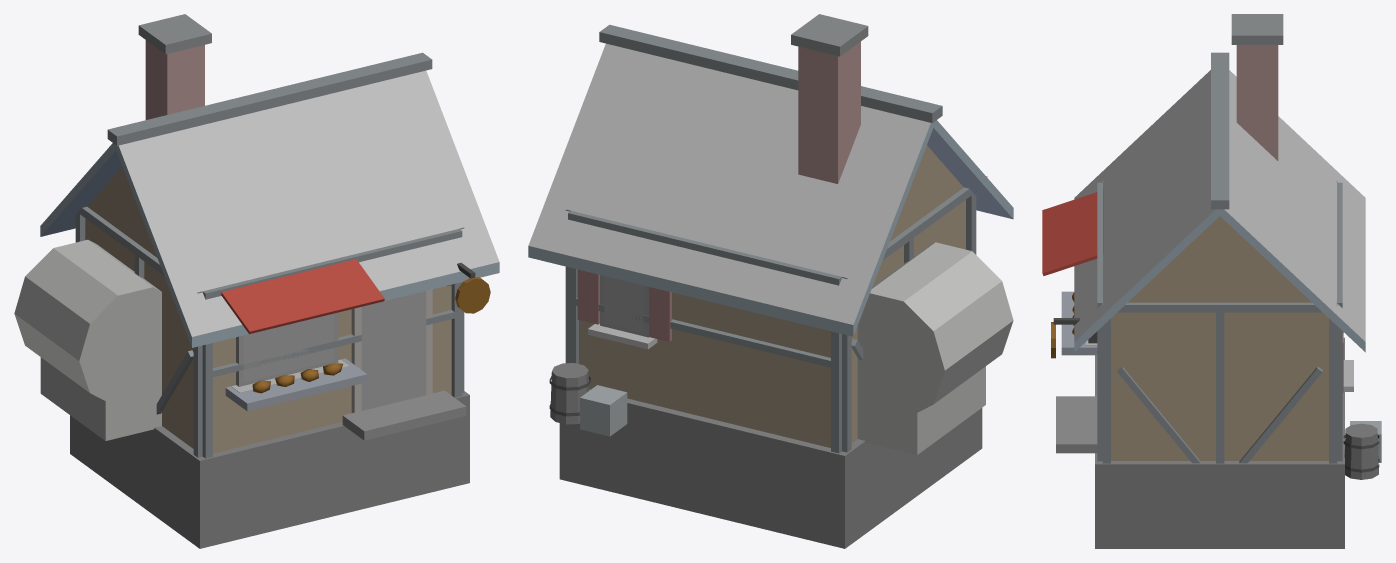
File: bakery.glb
The picture shows the model from 3 angles, left to right: view 1: azimuth 30°, elevation 25°; view 2: azimuth 150°, elevation 25°; view 3: azimuth 270°, elevation 25°; orthographic projection. The views are drawn at different scales.
Visible parts, largest first — view 1: bakery; view 2: bakery; view 3: bakery.
Boxes of the visible parts, x1,y1,x2,y2 form: bakery: [14, 14, 499, 548]; bakery: [528, 14, 1013, 548]; bakery: [1042, 14, 1381, 548].
Size of the model in its own units: 4.9 by 5.64 by 4.07.
